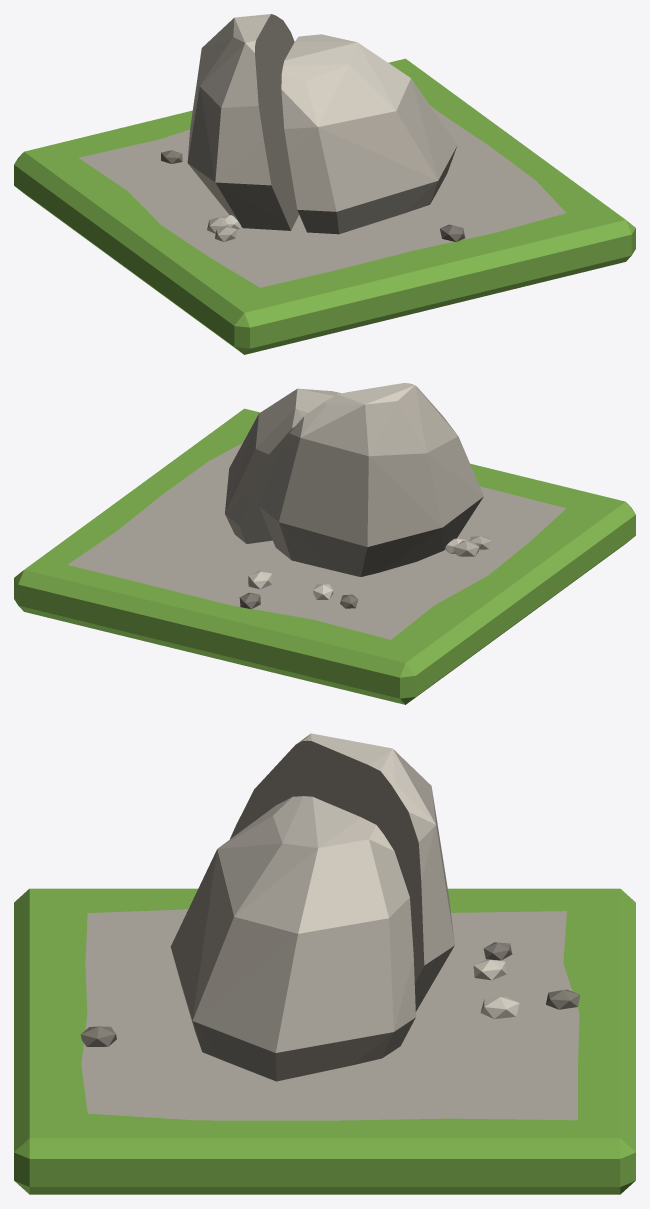
File: tile_rock_b.fbx
3 renders of one model, top to bottom at view 1: azimuth 30°, elevation 25°; view 2: azimuth 150°, elevation 25°; view 3: azimuth 270°, elevation 25°, orthographic. The views are drawn at different scales.
Visible parts, largest first — view 1: tile_rock_b; view 2: tile_rock_b; view 3: tile_rock_b.
Boxes of the visible parts, x1=… form: tile_rock_b: x1=14, y1=14, x2=635, y2=354; tile_rock_b: x1=14, y1=383, x2=635, y2=704; tile_rock_b: x1=14, y1=733, x2=635, y2=1194.
Size of the model in its own units: 1 by 0.5037 by 1.
